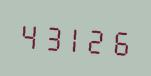four: (18, 16, 40, 53)
one: (64, 19, 86, 56)
six: (110, 22, 132, 59)
three: (41, 17, 63, 55)
two: (87, 20, 109, 58)
